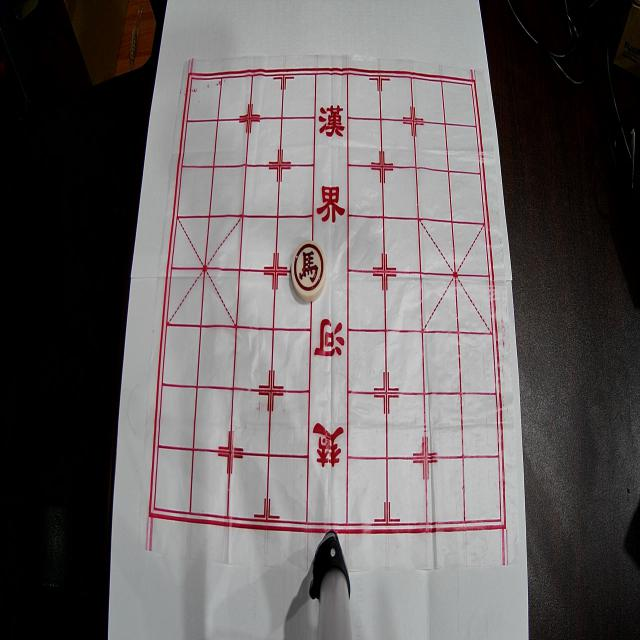red-horse: (292, 240, 326, 302)
